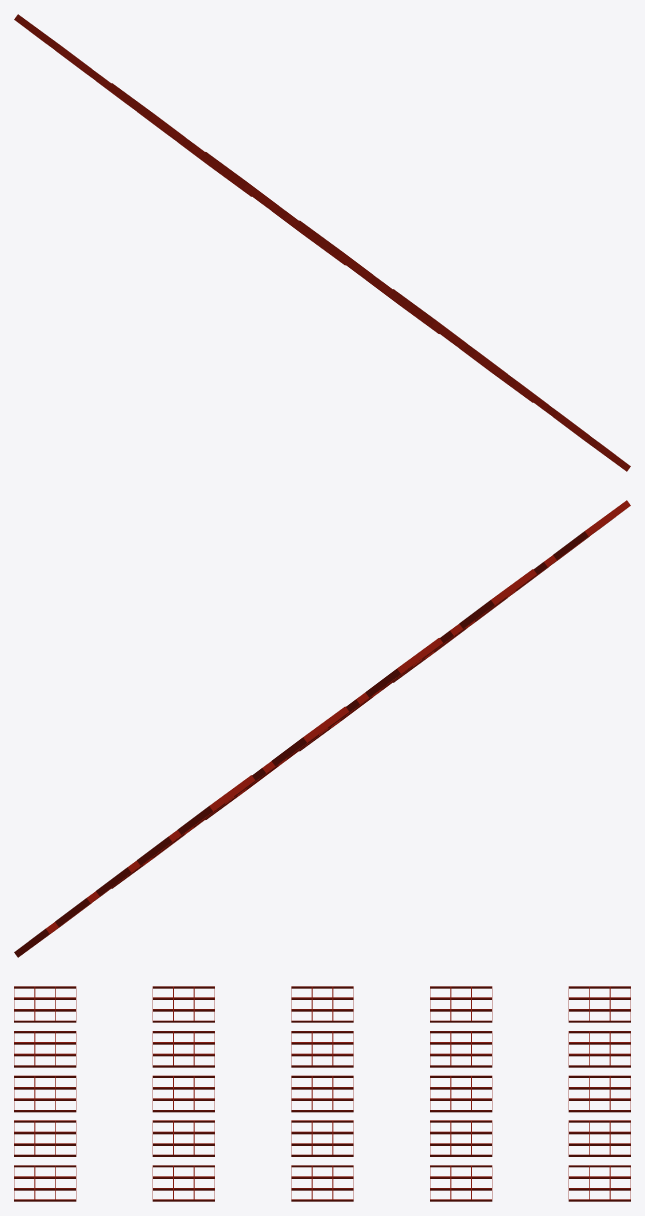
3 renders of one model, top to bottom at view 1: azimuth 30°, elevation 25°; view 2: azimuth 150°, elevation 25°; view 3: azimuth 270°, elevation 25°, orthographic. The views are drawn at different scales.
Visible parts, largest first — view 1: Cube.026; view 2: Cube.026; view 3: Cube.026.
Boxes of the visible parts, x1,y1,x2,y2 form: Cube.026: [14, 14, 630, 471]; Cube.026: [14, 500, 630, 957]; Cube.026: [14, 986, 630, 1201].
Size of the model in its own units: 9.8 by 9.33 by 35.58.
